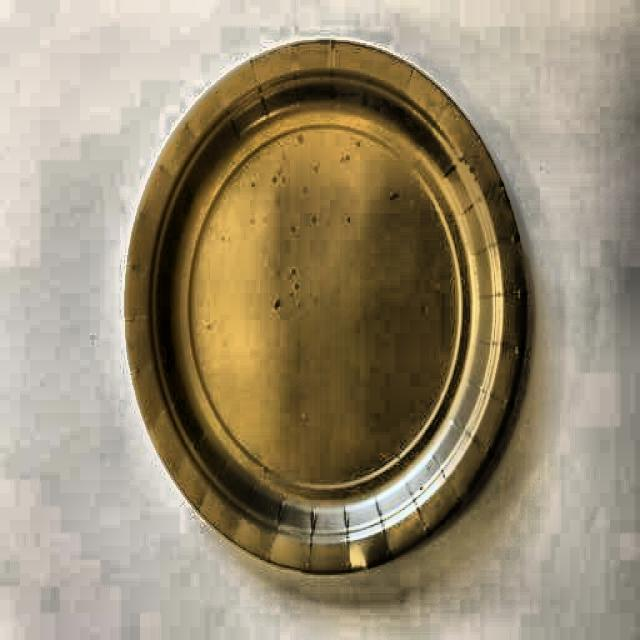paper: (119, 36, 525, 584)
